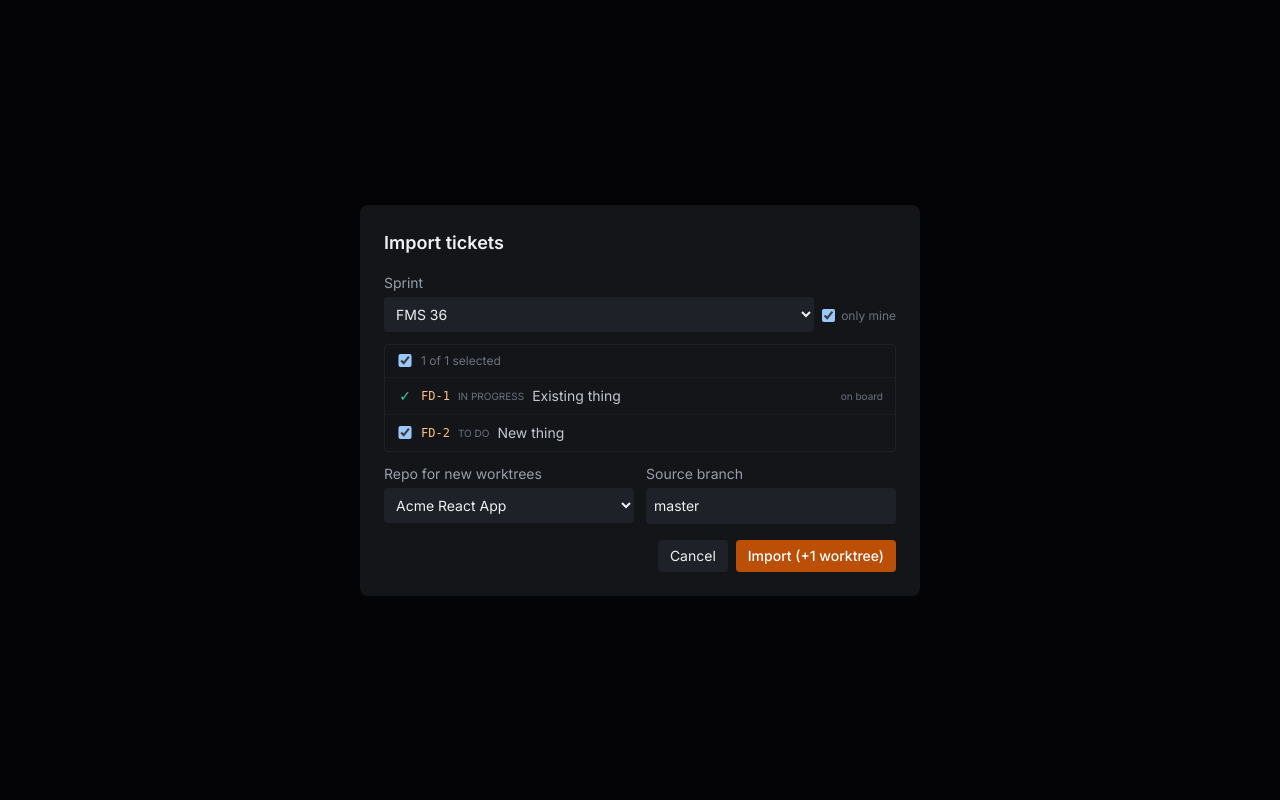
ImportTicketsDialog › the header checkbox unselects every creatable ticket, then selects them back
Check: the text "New thing" is shown, box [497, 422, 564, 442]
Check: the checkbox named "Create worktree for FD-2" is checked, box [397, 426, 413, 439]
Click the checkbox named "Select all tickets".
click(405, 360)  # box [397, 354, 413, 367]
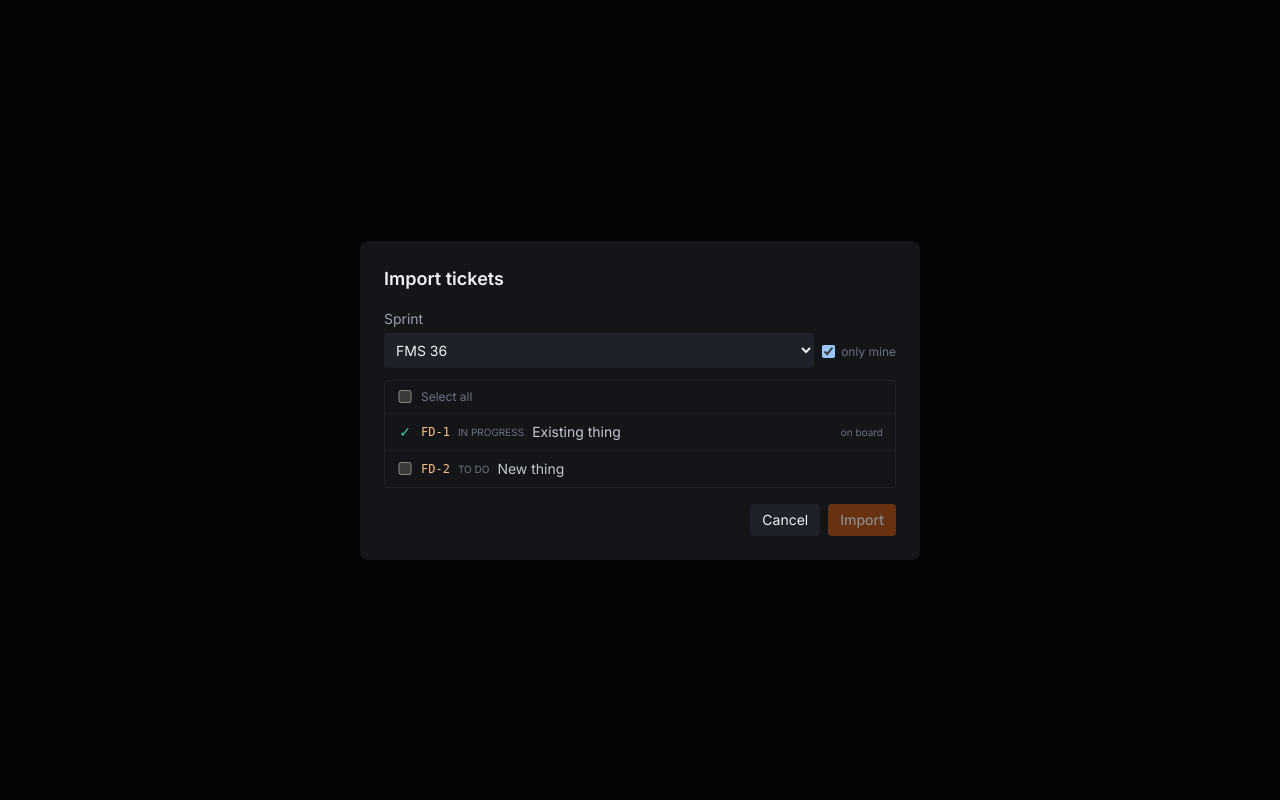
Check: the checkbox named "Select all tickets" is not checked
Check: the checkbox named "Create worktree for FD-2" is not checked, box [397, 462, 413, 475]
Click the checkbox named "Select all tickets".
click(405, 396)  # box [397, 390, 413, 403]
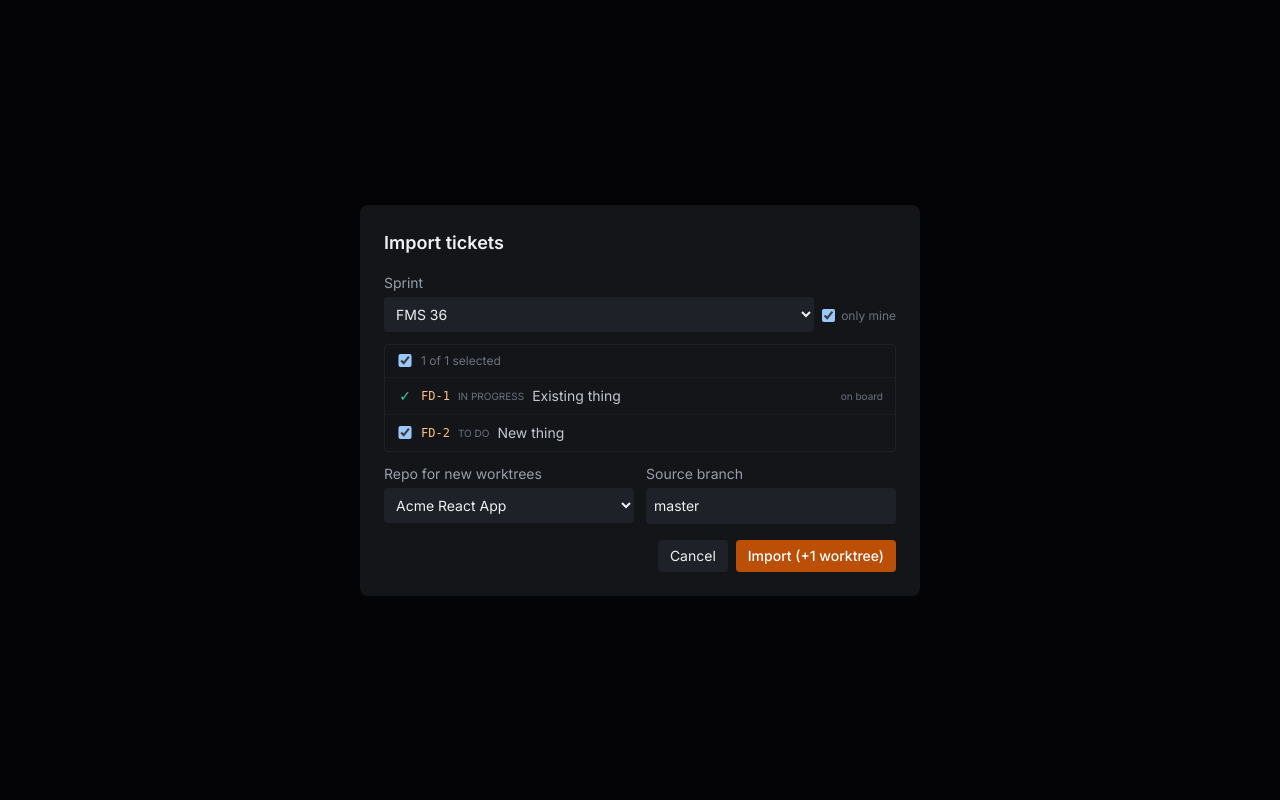
Check: the checkbox named "Create worktree for FD-2" is checked, box [397, 426, 413, 439]
